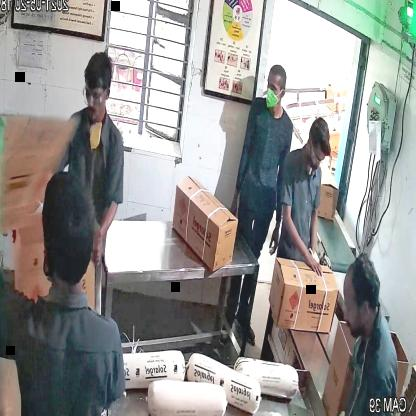goggles: (80, 82, 112, 109)
no_goggles: (308, 147, 328, 169), (262, 80, 286, 98)
